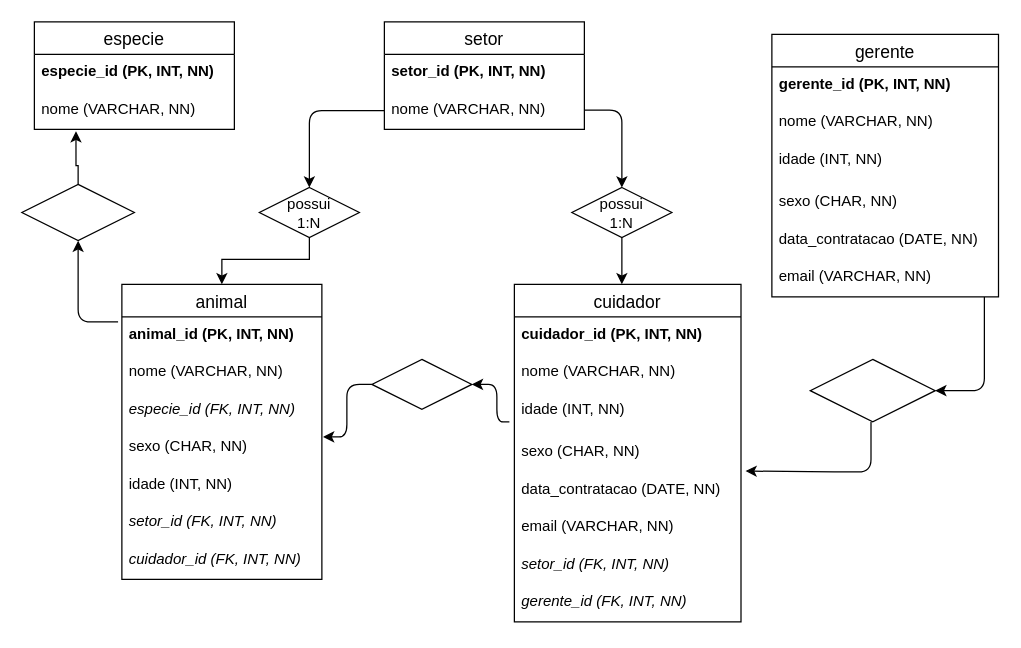
Some shapes in this 1021 by 648 pixel diagram are drawn without their labels. The centre of each missing label's shape, as x and y in pixels:
"cuida de 1:N" goes at (x=421, y=383).
"gerencia 1:N" goes at (x=872, y=390).
"pertence 1:1" goes at (x=77, y=212).
